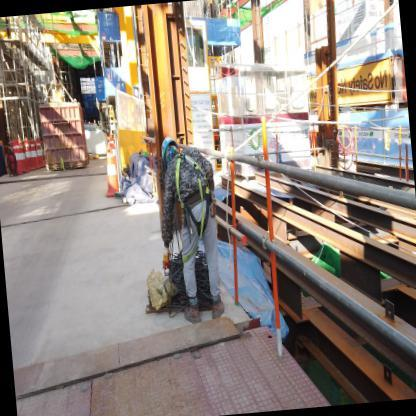safety-shoe: (209, 296, 230, 329), (178, 302, 205, 327)
